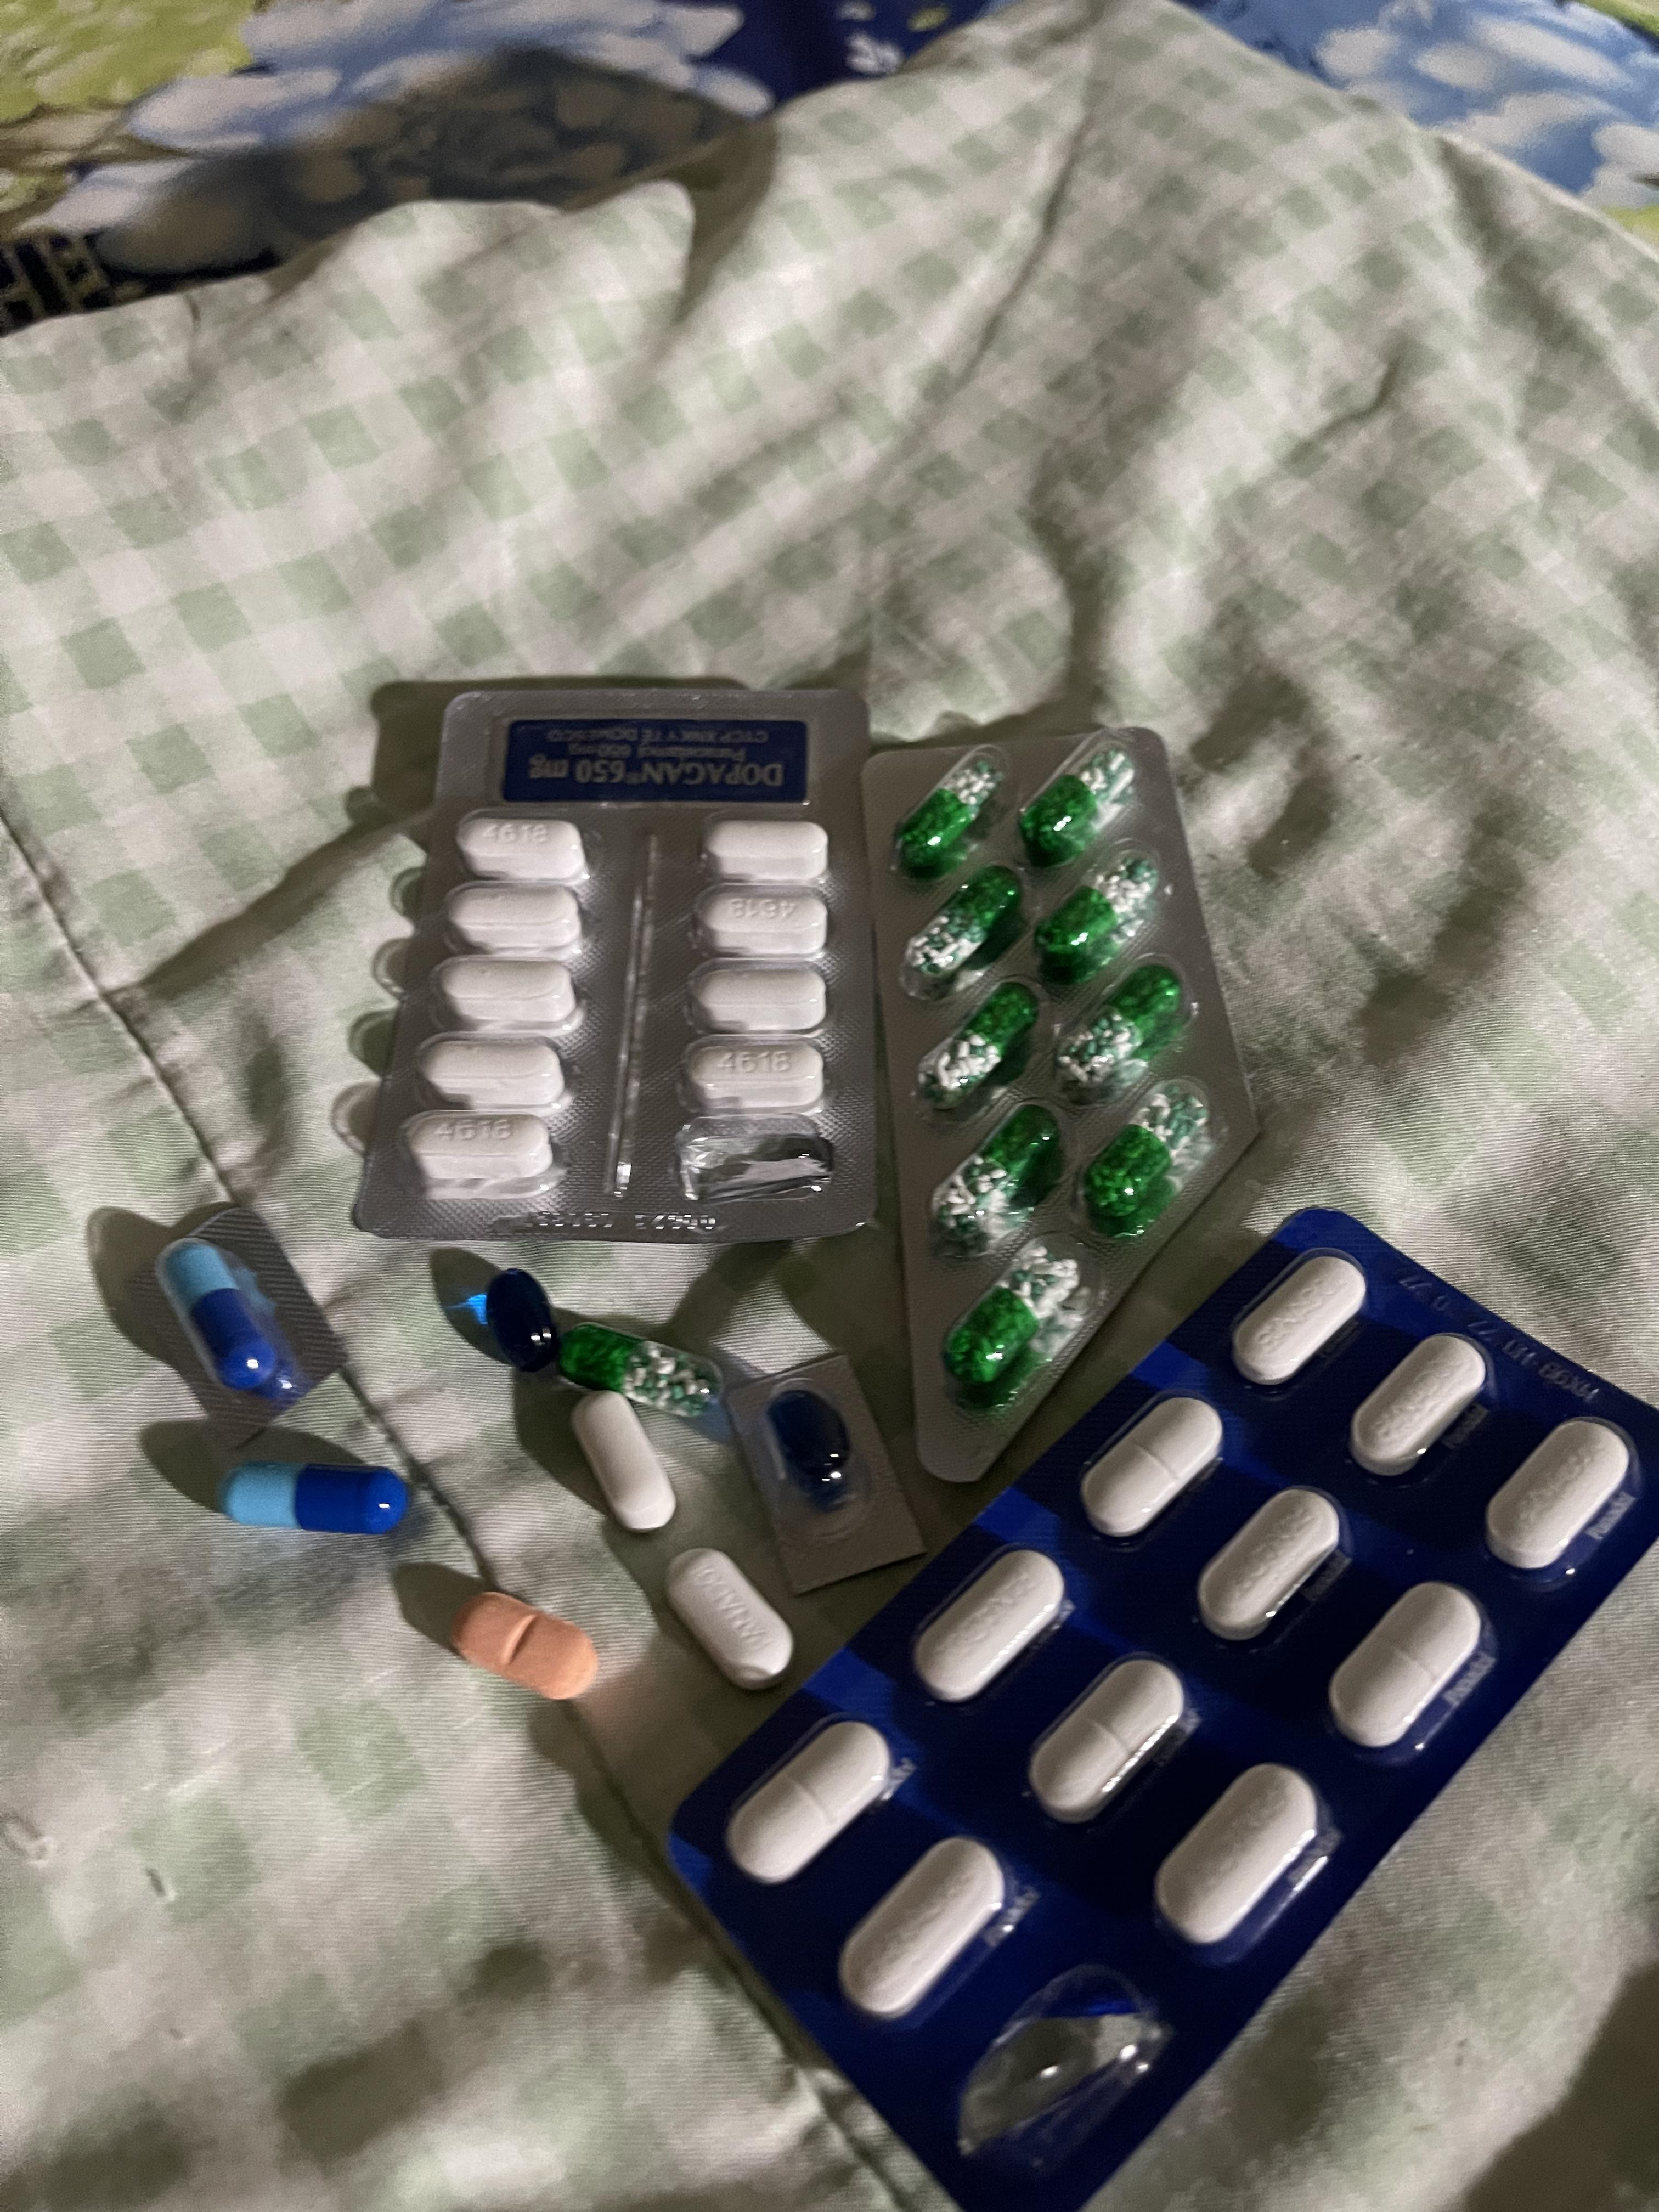Lincomyxin_500mg: (765, 1390, 857, 1508), (484, 1266, 561, 1372)
Loratadine_10mg: (453, 1592, 603, 1700)
Paracetamol_350mg: (1154, 1764, 1321, 1949), (842, 1836, 1007, 2020), (728, 1717, 892, 1885), (1030, 1655, 1187, 1824), (1330, 1581, 1485, 1749), (1483, 1416, 1636, 1571), (911, 1545, 1065, 1700), (1195, 1484, 1345, 1639), (1349, 1332, 1490, 1475), (1080, 1395, 1222, 1536), (664, 1548, 793, 1691), (1230, 1251, 1366, 1383)
Paracetamol_500mg: (570, 1390, 676, 1534), (404, 1109, 554, 1191), (420, 1035, 568, 1109), (437, 954, 579, 1031), (683, 1036, 821, 1113), (446, 883, 582, 954), (692, 965, 826, 1035), (458, 812, 589, 883), (697, 887, 828, 956), (702, 819, 828, 883)
Paracetamol_650mg: (943, 1235, 1086, 1402), (1080, 1073, 1209, 1237), (931, 1099, 1063, 1254), (1056, 965, 1185, 1104), (1035, 859, 1159, 989), (552, 1322, 721, 1414), (903, 866, 1023, 995), (922, 981, 1040, 1109), (1018, 738, 1134, 869), (894, 751, 1004, 876)
pill: (159, 1238, 298, 1399), (218, 1458, 410, 1538)
